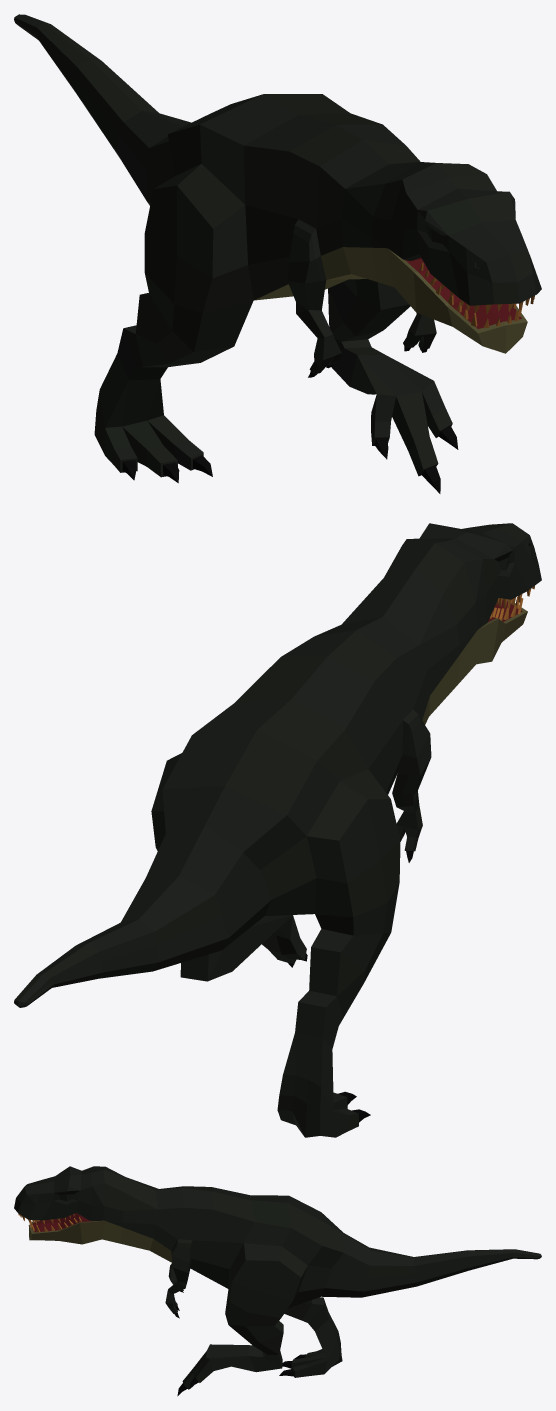
The model's file is Trex_000030.obj.
The picture shows the model from 3 angles, top to bottom: view 1: azimuth 30°, elevation 25°; view 2: azimuth 150°, elevation 25°; view 3: azimuth 270°, elevation 25°; orthographic projection. The views are drawn at different scales.
Visible parts, largest first — view 1: Trex_Cylinder; view 2: Trex_Cylinder; view 3: Trex_Cylinder.
Boxes of the visible parts, x1,y1,x2,y2 form: Trex_Cylinder: (14,14,541,493); Trex_Cylinder: (14,523,541,1137); Trex_Cylinder: (14,1166,541,1396).
Size of the model in its own units: 8.05 by 14.43 by 31.3.
